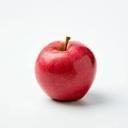apple: (34, 39, 97, 102)
